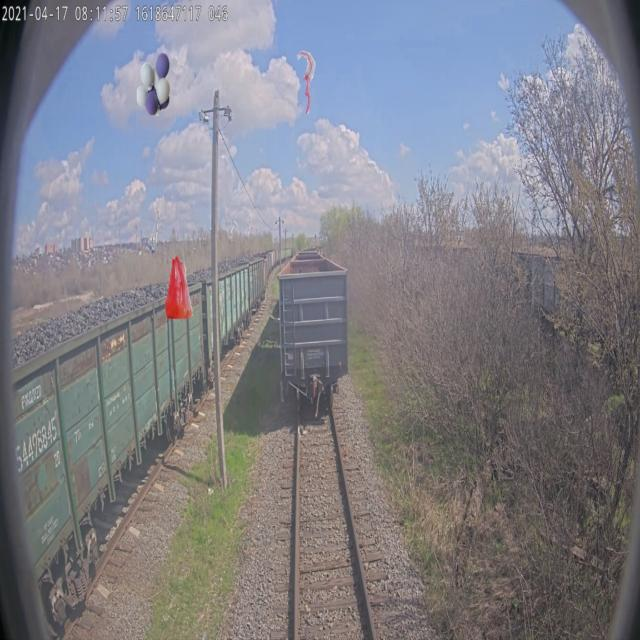balloon: (137, 52, 170, 116)
floating object: (296, 50, 316, 114)
plastic bag: (165, 255, 193, 319)
